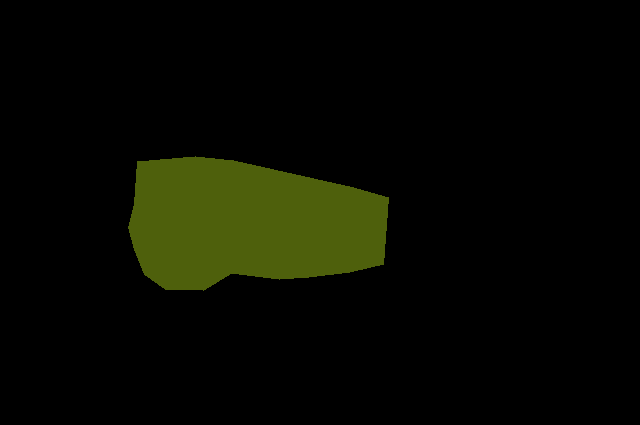Train: (128, 156, 389, 290)
